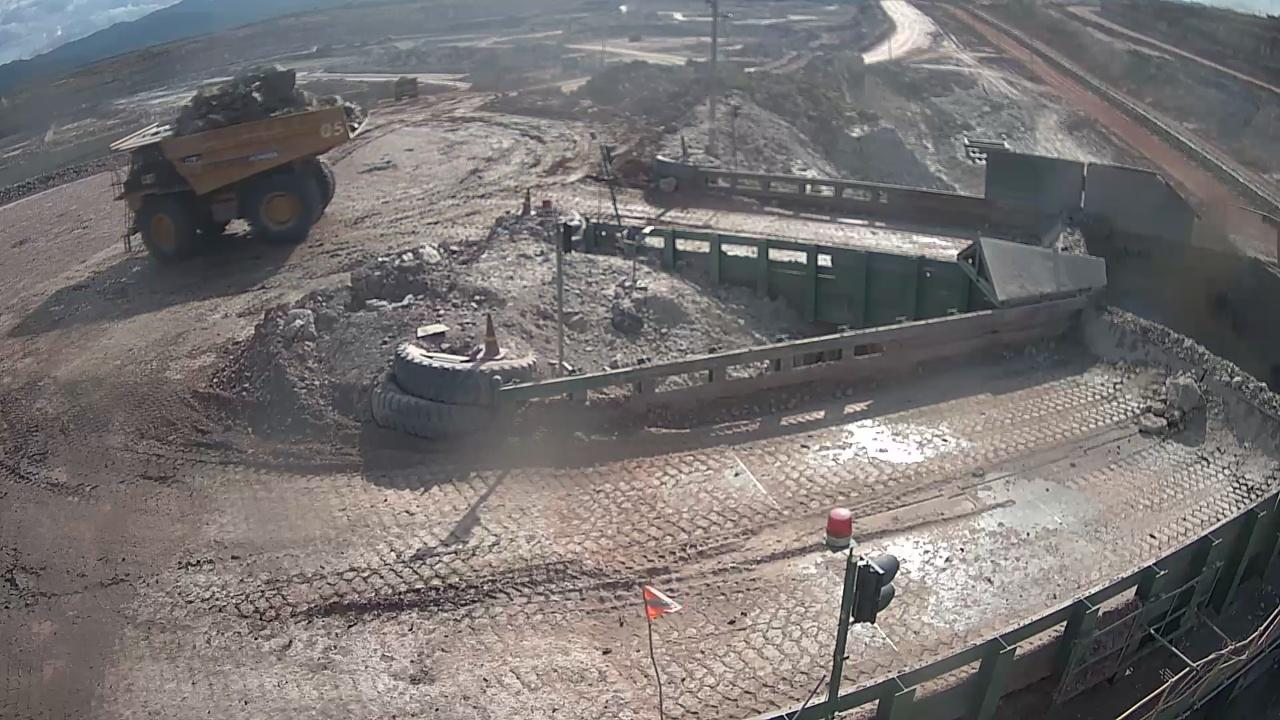full_load: (156, 64, 303, 130)
mining_truck: (107, 61, 360, 262)
tail_number: (316, 118, 349, 142)
